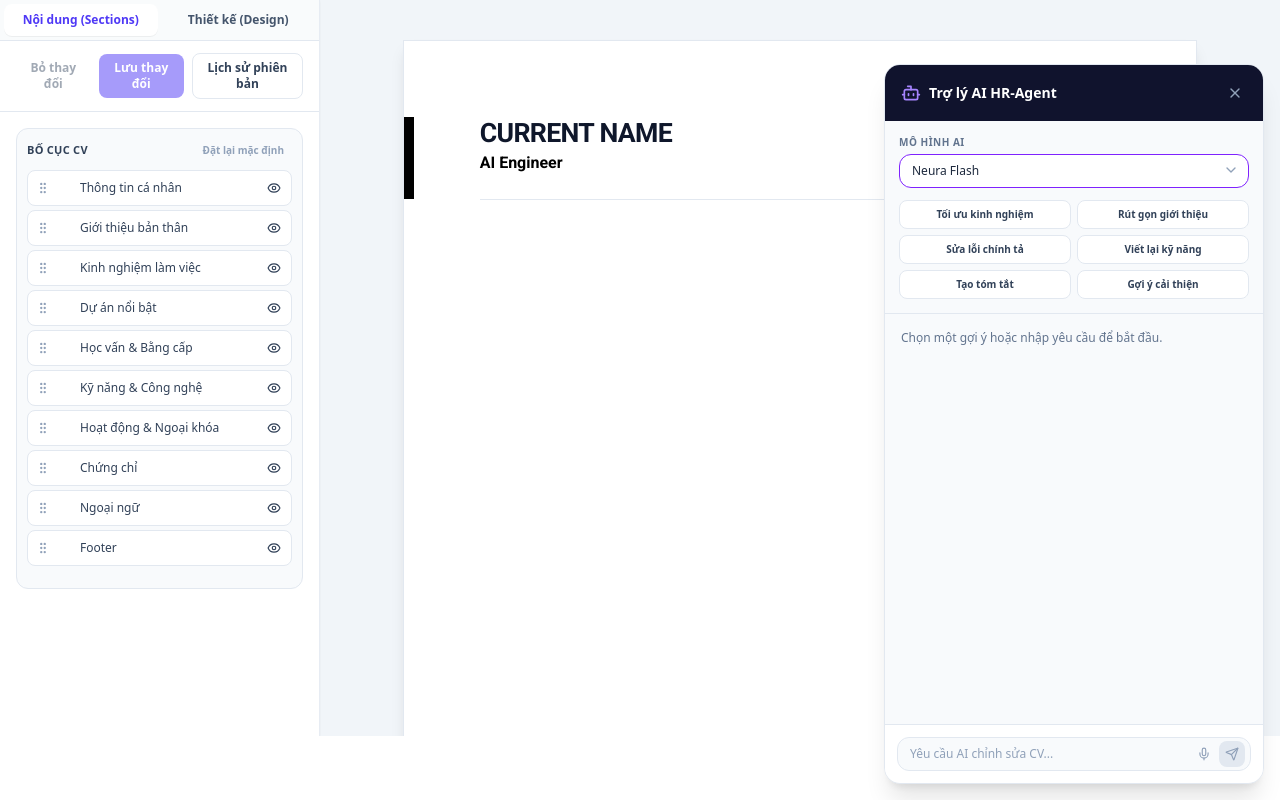
Test: CV version history › lists each revision with its source, time, and message
Click the button "Lịch sử phiên bản" at point(247, 76), box [192, 53, 303, 99]
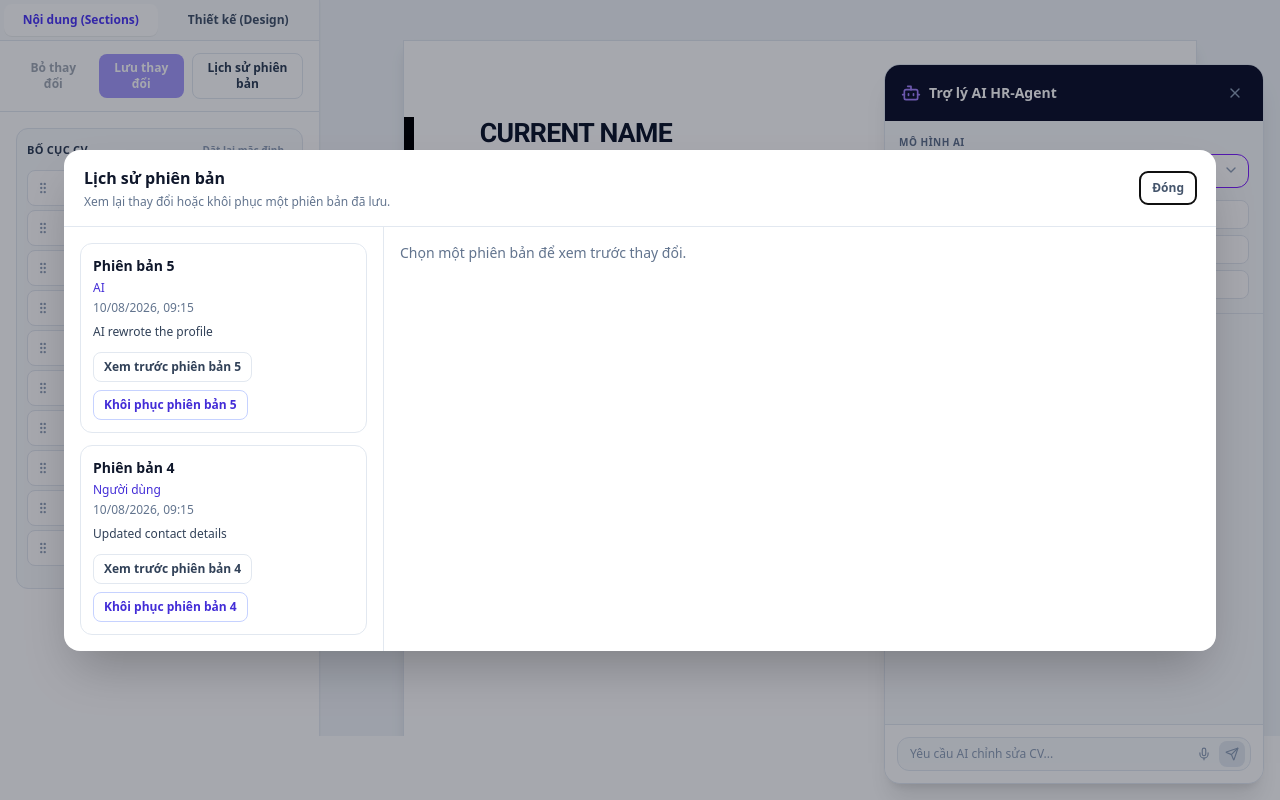
Check: the heading "Phiên bản 5" is shown, box [93, 256, 174, 274]
Check: the text "AI" is shown, box [93, 278, 105, 296]
Check: the text "10/08/2026, 09:15" is shown 2 times, box [93, 298, 194, 316]; [93, 500, 194, 518]
